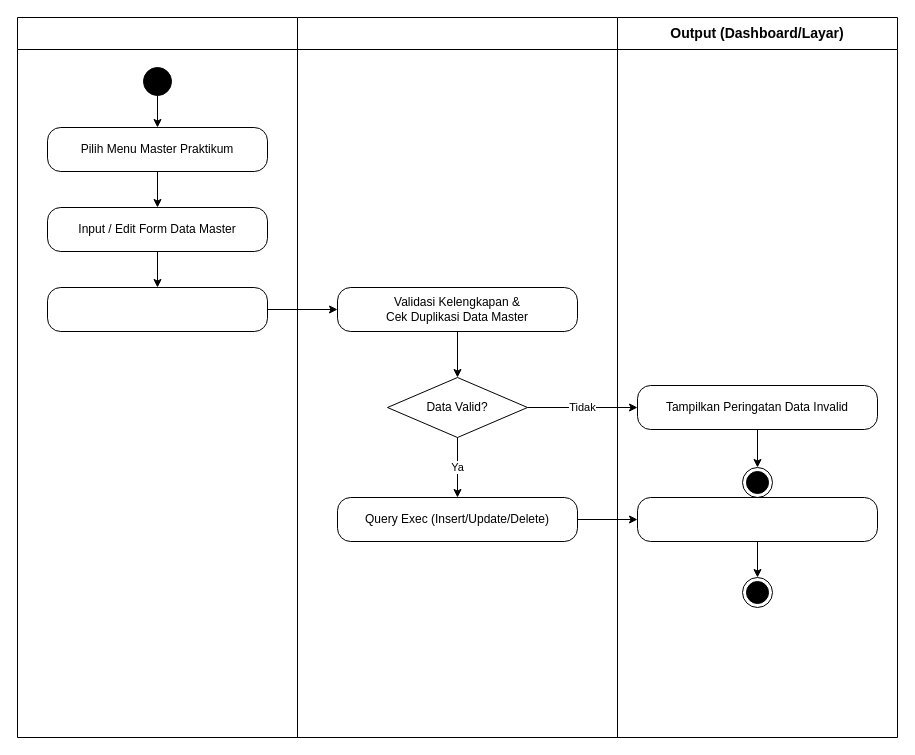
The diagram is 915 pixels wide and 755 high, and some of its shapes have lost their labels. The shapes that lost their labels are listed below. From the top down, each one's box as (x1, y1, x2, y2) in pixels, then its label:
(46, 286, 268, 332): Klik Tombol Simpan / Hapus
(16, 16, 298, 738): Input (Aktor)
(296, 16, 618, 738): Proses (Sistem/Engine)
(636, 496, 878, 542): Tampilkan Pesan Sukses & Refresh Tabel Master
